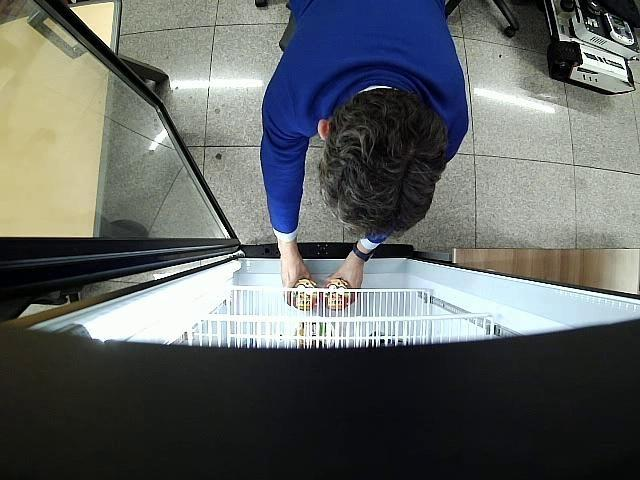06_nuguri_S: (324, 278, 354, 311), (292, 279, 321, 310)
